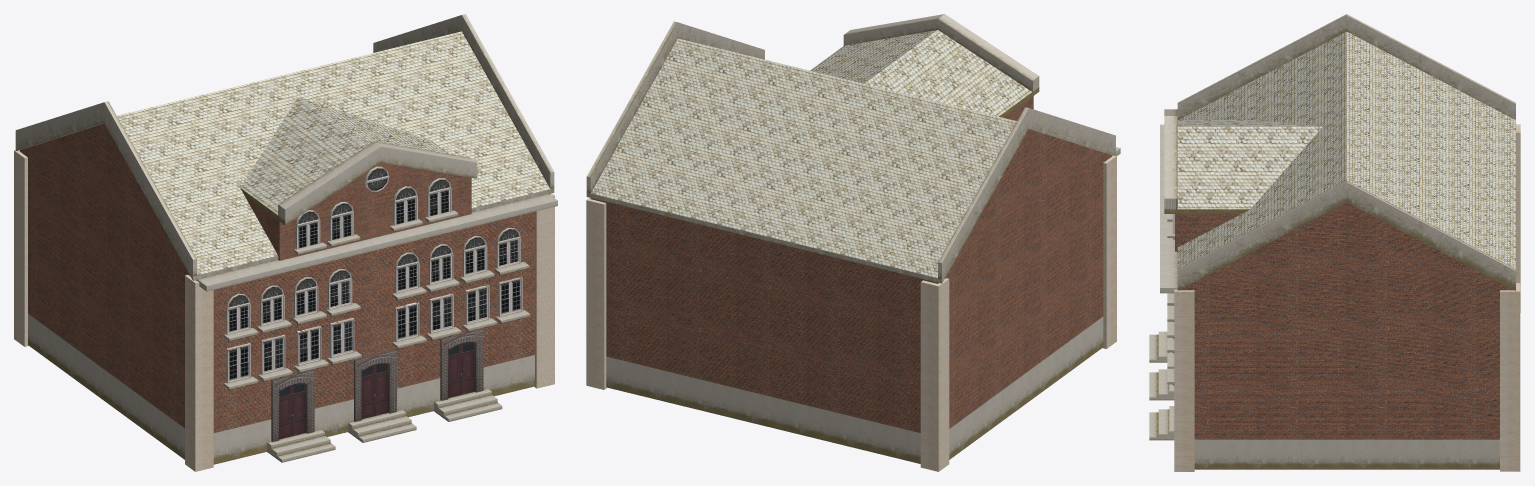
The model's file is city3_h13.fbx.
3 views of the same model, side by side, from view 1: azimuth 30°, elevation 25°; view 2: azimuth 150°, elevation 25°; view 3: azimuth 270°, elevation 25° (orthographic). The views are drawn at different scales.
Visible parts, largest first — view 1: Default_Layer; view 2: Default_Layer; view 3: Default_Layer.
Boxes of the visible parts, <box> form: Default_Layer: <box>14,14,557,471</box>; Default_Layer: <box>586,14,1120,471</box>; Default_Layer: <box>1149,14,1520,471</box>.
Size of the model in its own units: 942 by 757 by 878.
